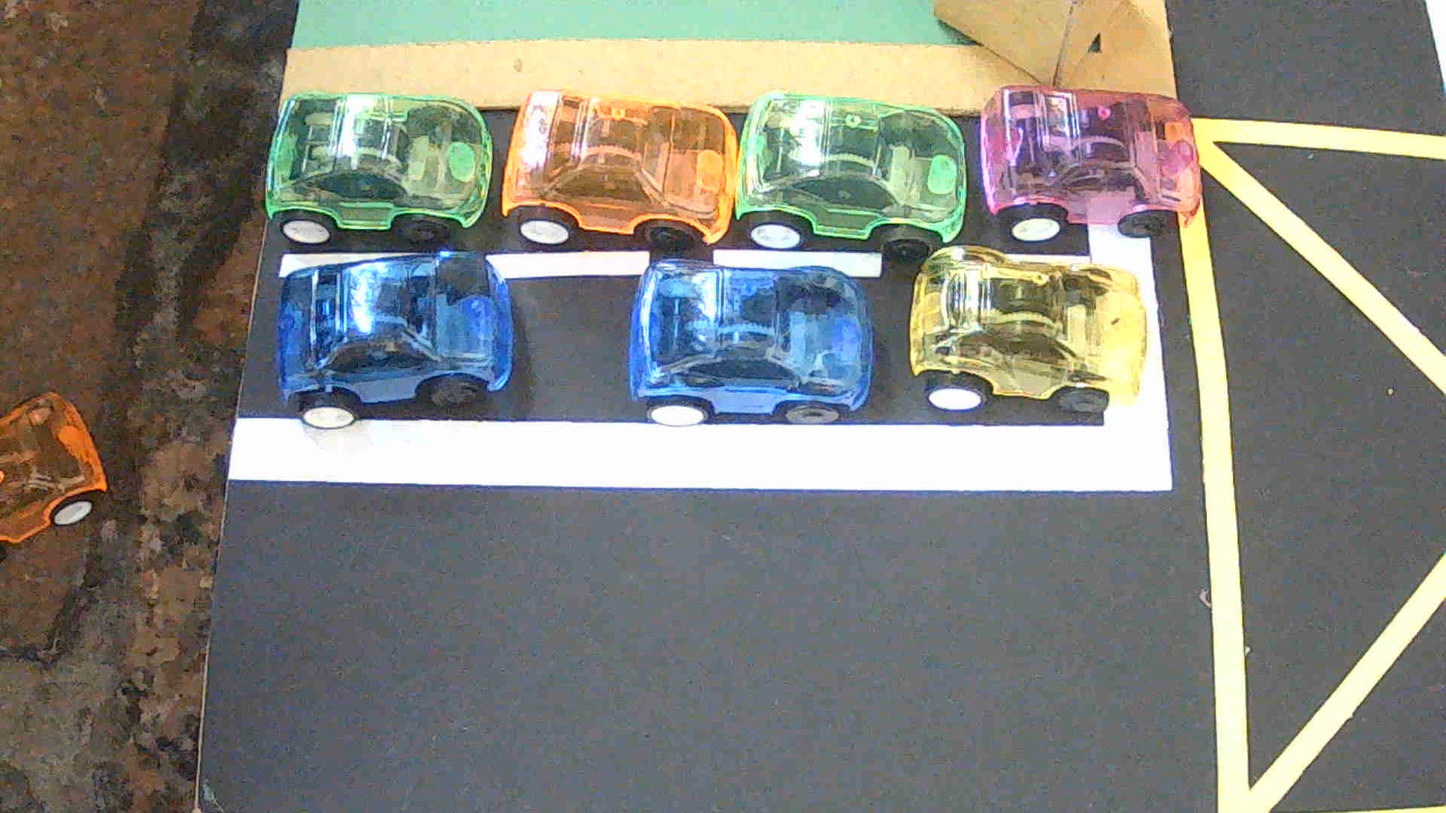Mobil biru: (277, 251, 513, 428), (628, 259, 873, 426)
Mobil hijau: (734, 92, 966, 261), (266, 93, 491, 244)
Mobil kuning: (911, 246, 1146, 414)
Mobil orange: (502, 90, 736, 250)
Mobil ungu: (979, 86, 1200, 241)
